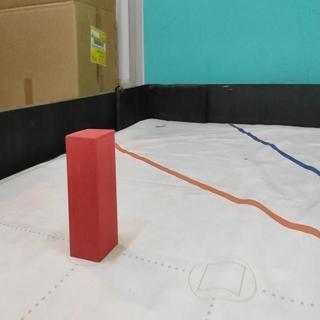redbox: (65, 127, 116, 264)
